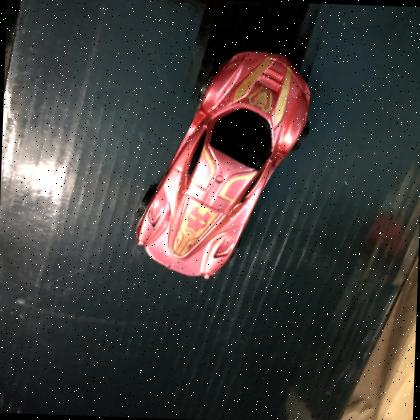Car: (131, 46, 315, 286)
